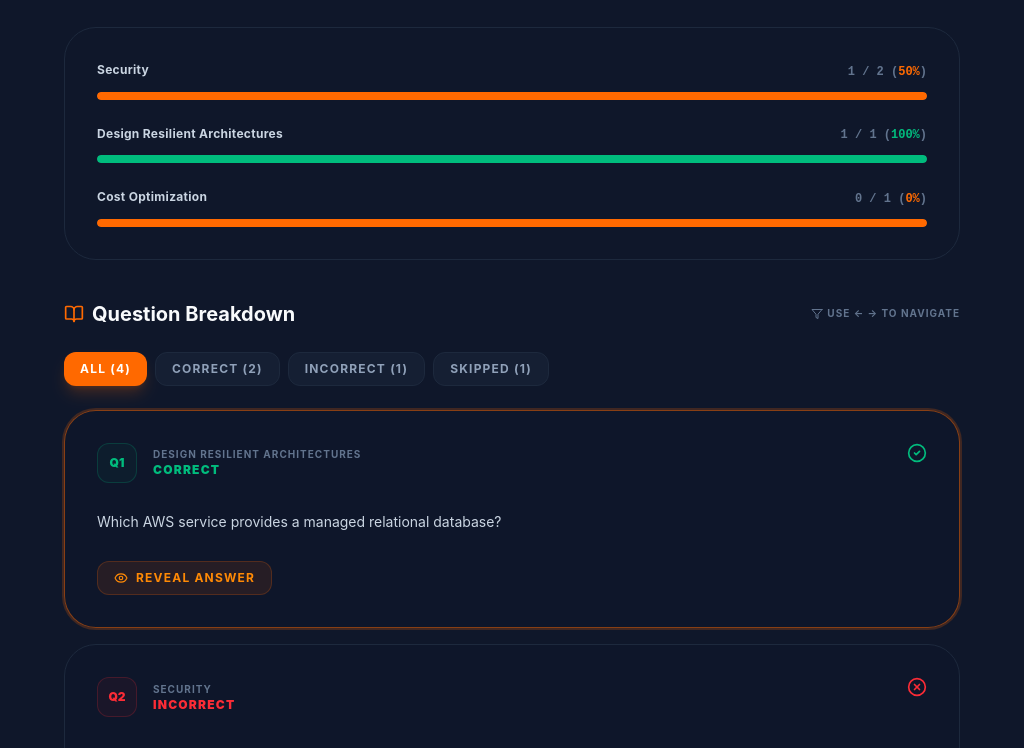
Test case: ResultReview Page › Filter tab switching (Requirement 4.1) › filters to only incorrect questions when Incorrect tab is clicked
(page scrolled)
Click the button "Incorrect (1)".
click(356, 368)  # box x1=288 y1=352 x2=425 y2=386
(page scrolled)
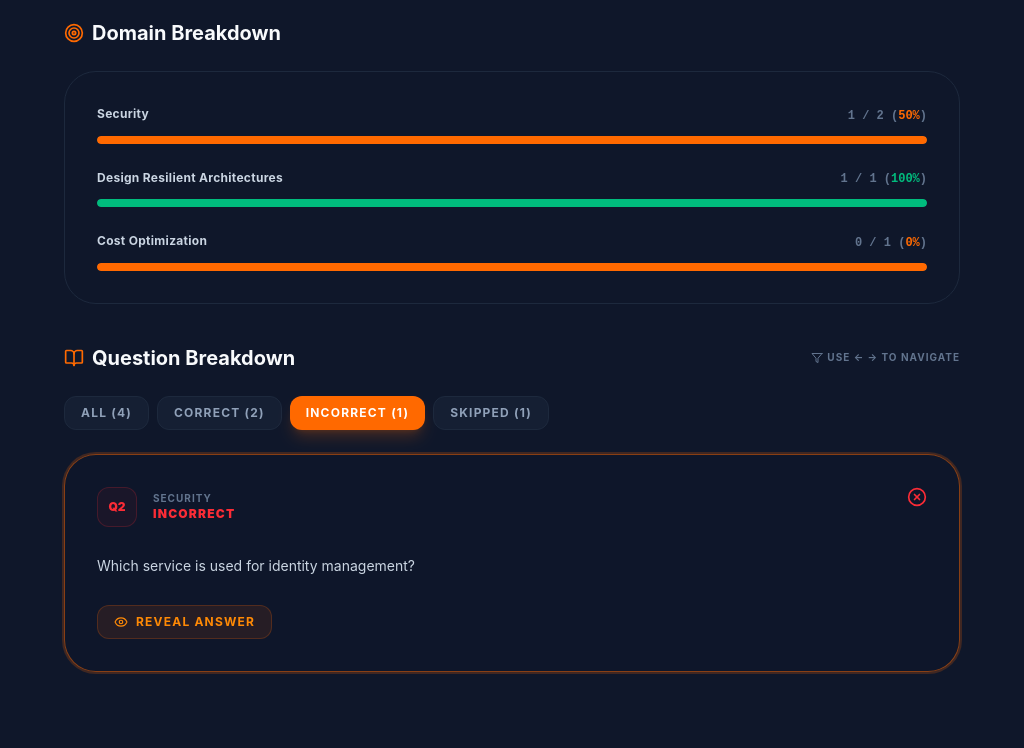
Expected: the text "Which service is used for identity management?" is shown, x1=97 y1=556 x2=415 y2=574
Now the text "Which AWS service provides a managed relational database?" is gone
